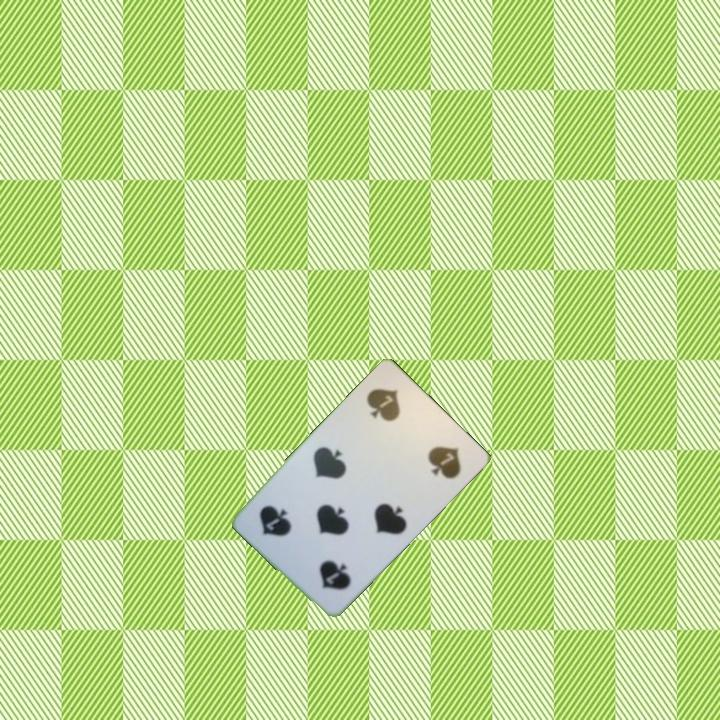s_7.png: (284, 522, 370, 608), (348, 370, 434, 456)
